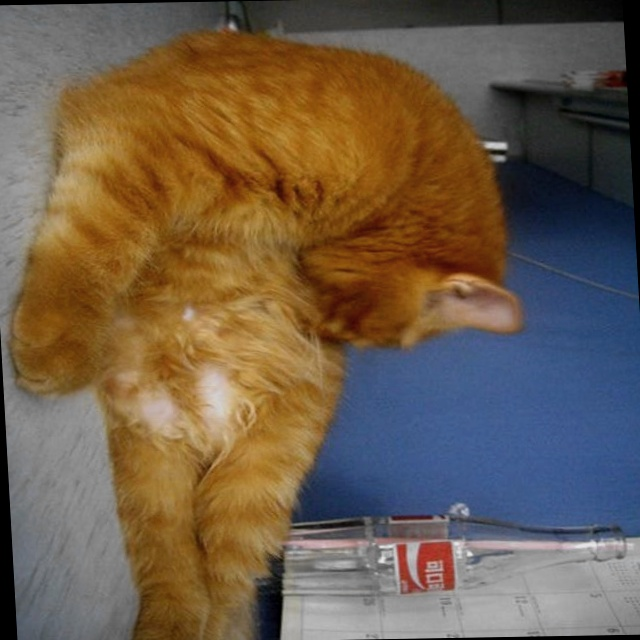hairloss: (120, 373, 237, 442)
